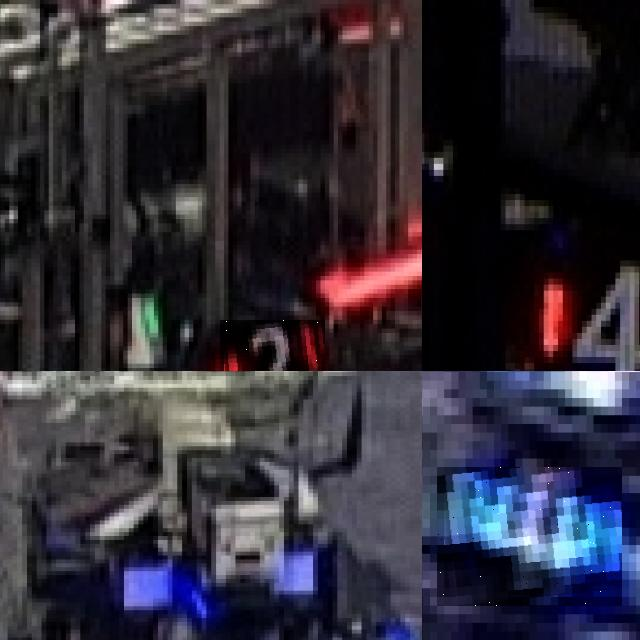B4: (437, 467, 622, 606)
R2: (220, 320, 325, 371)
R4: (531, 257, 640, 371)
